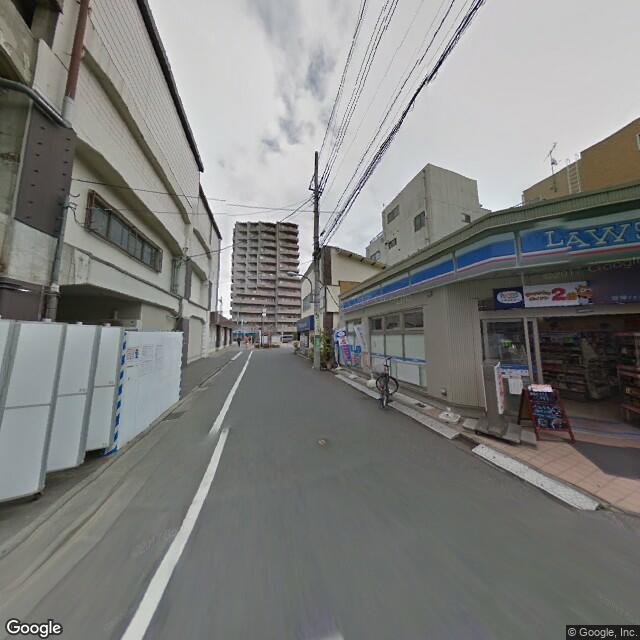lawson: (341, 207, 639, 319)
